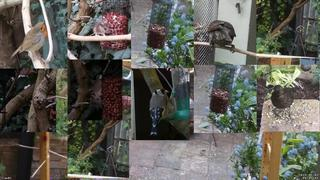blackbird: (270, 85, 300, 122)
goldfinch: (149, 88, 170, 136)
mouse: (81, 20, 111, 42), (90, 80, 102, 104)
robin: (9, 20, 48, 61)
starling: (208, 20, 236, 54)
